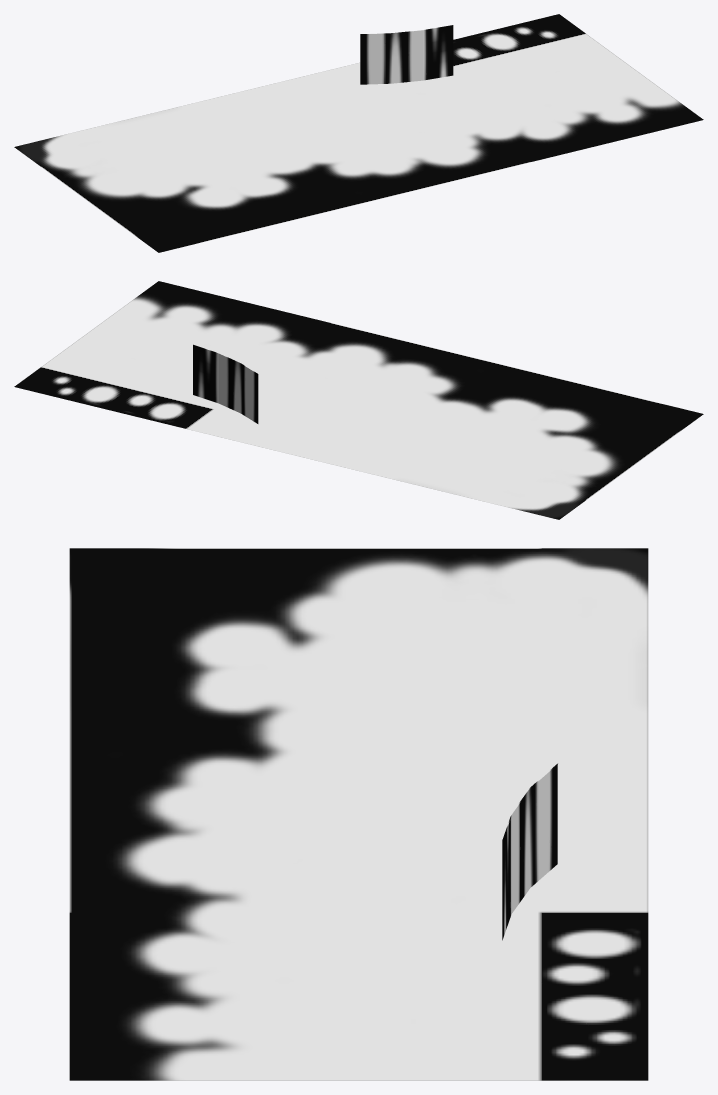
Rendered from riccoseapollutions0.dae.
The picture shows the model from 3 angles, top to bottom: view 1: azimuth 30°, elevation 25°; view 2: azimuth 150°, elevation 25°; view 3: azimuth 270°, elevation 25°; orthographic projection. The views are drawn at different scales.
Visible parts, largest first — view 1: m0; view 2: m0; view 3: m0.
Part boxes in pixels (x1,y1,x2,y2): m0: (14,14,703,252); m0: (14,281,703,519); m0: (69,548,648,1080).
Size of the model in its own units: 16882 by 1490 by 7762.
